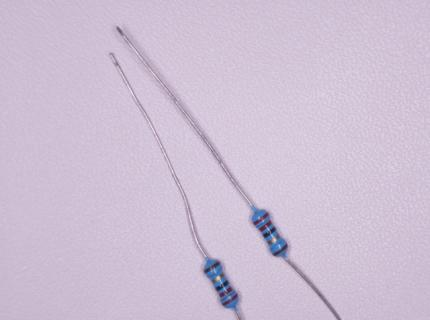Black band: (215, 280, 230, 292), (263, 226, 276, 239)
Brown band: (204, 261, 220, 274), (273, 244, 288, 257)
Gold band: (268, 234, 280, 245), (212, 273, 225, 283)
Red band: (253, 212, 269, 225), (222, 294, 238, 306), (259, 220, 272, 232), (219, 287, 233, 298)
